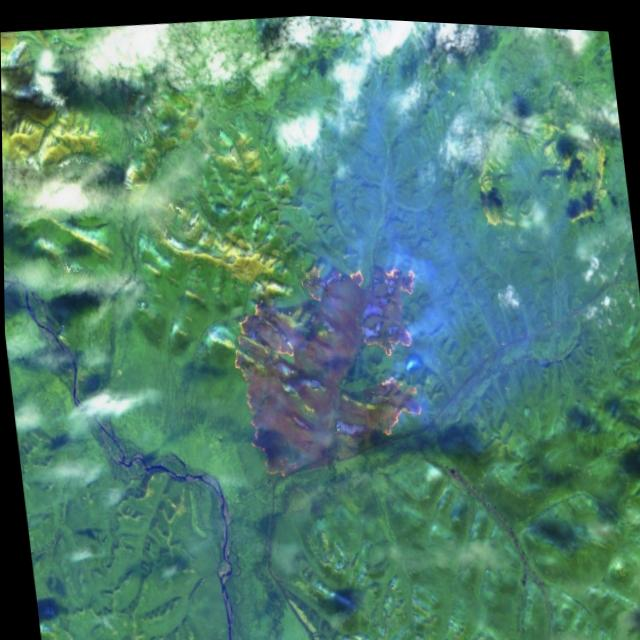fire: (218, 238, 445, 491)
